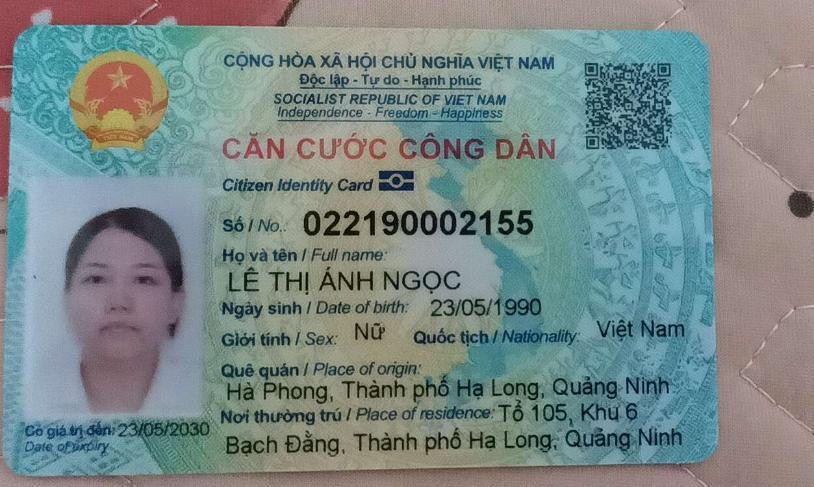ID: (299, 204, 545, 242)
birth: (424, 296, 549, 323)
name: (221, 264, 473, 296)
place: (221, 374, 671, 402)
residence: (222, 424, 689, 459), (498, 399, 645, 426)
